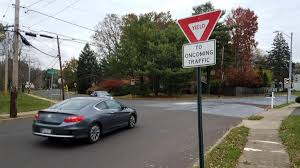yield: (177, 8, 221, 41)
